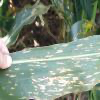Corn Gray leaf spot: (13, 32, 99, 99)
